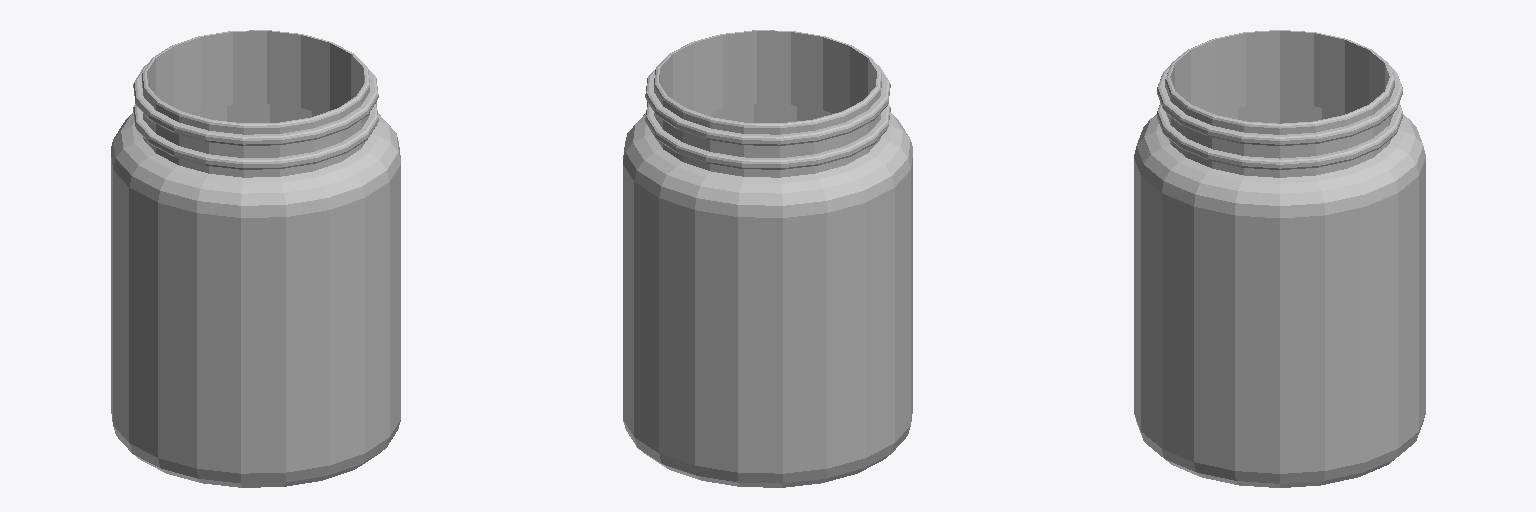
File: masonJar.obj
3 renders of one model, left to right at view 1: azimuth 30°, elevation 25°; view 2: azimuth 150°, elevation 25°; view 3: azimuth 270°, elevation 25°, orthographic.
Parts seen in each view (by area): view 1: masonJar; view 2: masonJar; view 3: masonJar.
Boxes of the visible parts, <box> form: masonJar: <box>111,30,400,487</box>; masonJar: <box>623,30,912,487</box>; masonJar: <box>1134,30,1425,487</box>.
Size of the model in its own units: 1 by 1.35 by 1.